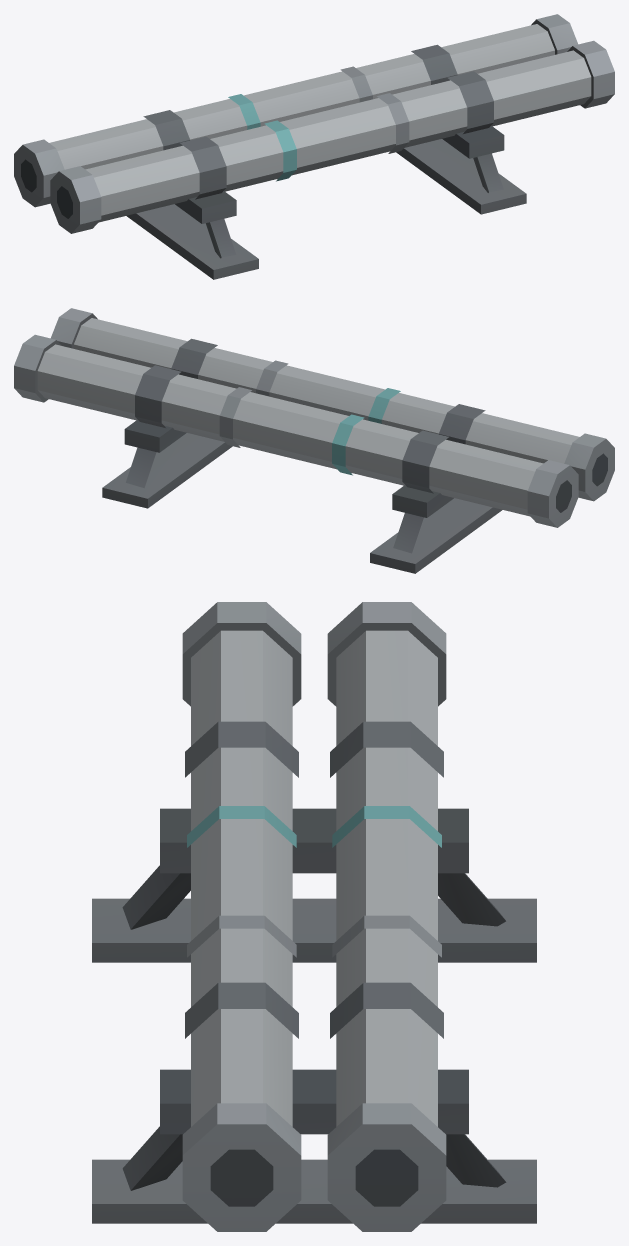
File: pipe.lod1.glb
The picture shows the model from 3 angles, top to bottom: view 1: azimuth 30°, elevation 25°; view 2: azimuth 150°, elevation 25°; view 3: azimuth 270°, elevation 25°; orthographic projection. The views are drawn at different scales.
Bounding box in the file's own units: 4 × 0.7422 × 1.44.
